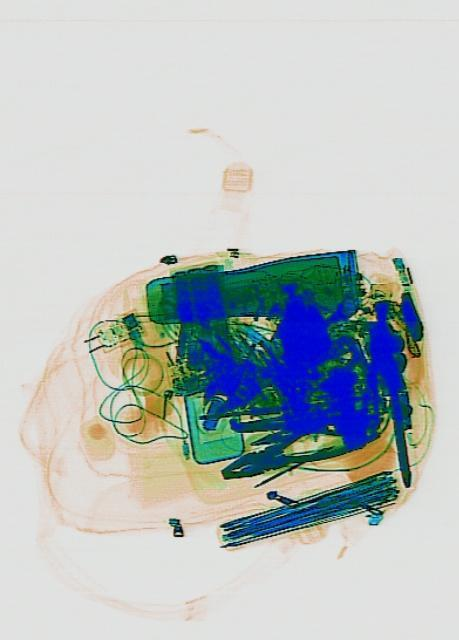Pliers: (215, 398, 378, 497)
